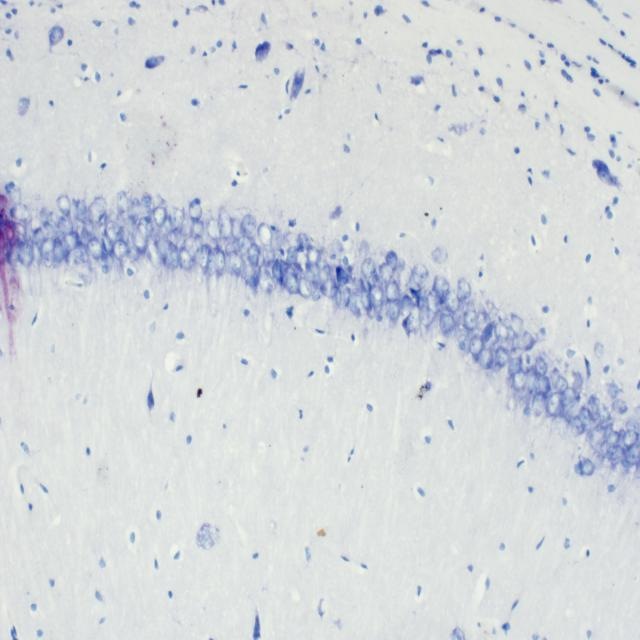neuron: (154, 237, 179, 270), (418, 296, 436, 329), (87, 196, 108, 224), (404, 305, 422, 337), (132, 222, 149, 255), (258, 265, 276, 296), (357, 280, 372, 312), (454, 315, 470, 345), (168, 206, 184, 235), (141, 191, 155, 224), (183, 236, 203, 259), (80, 220, 99, 244), (434, 274, 449, 304), (195, 244, 210, 273), (217, 211, 233, 238), (257, 222, 273, 249), (39, 236, 55, 262), (590, 425, 606, 451), (57, 214, 74, 238), (494, 345, 509, 372), (232, 236, 252, 256), (86, 237, 104, 259), (18, 241, 33, 267), (444, 290, 460, 314), (10, 203, 30, 222), (188, 198, 202, 225), (385, 278, 400, 303), (534, 374, 551, 396), (117, 190, 129, 221), (113, 239, 129, 262), (178, 247, 194, 270), (206, 219, 222, 242), (30, 238, 43, 266), (76, 199, 90, 225), (105, 220, 120, 244), (138, 217, 153, 241), (330, 282, 342, 312), (622, 429, 640, 449), (63, 230, 80, 251), (368, 284, 384, 306), (7, 240, 21, 265), (470, 333, 484, 358), (305, 244, 320, 267), (230, 252, 243, 278), (547, 392, 560, 418), (53, 237, 65, 265), (284, 232, 300, 253), (412, 264, 428, 285), (480, 319, 494, 343), (478, 349, 494, 370), (610, 445, 626, 466), (74, 241, 89, 263), (153, 206, 168, 228), (179, 217, 194, 239), (305, 261, 320, 283), (494, 322, 509, 344), (533, 390, 545, 417), (579, 458, 596, 477), (440, 312, 454, 335), (458, 277, 472, 300), (241, 214, 257, 234), (322, 278, 338, 298), (360, 258, 376, 278), (56, 195, 71, 216), (463, 310, 478, 331), (190, 218, 204, 240), (272, 258, 283, 286), (298, 276, 312, 298), (379, 262, 393, 284), (385, 250, 399, 272), (431, 246, 448, 264), (561, 387, 577, 406), (578, 408, 594, 427), (248, 242, 260, 267), (286, 270, 298, 294), (571, 416, 584, 438), (512, 370, 526, 390), (510, 313, 523, 334), (207, 249, 217, 276), (607, 381, 622, 399), (625, 417, 640, 435), (625, 445, 640, 463), (263, 244, 275, 266), (400, 292, 411, 316), (215, 247, 225, 273), (535, 356, 548, 376), (555, 376, 568, 396), (617, 428, 627, 454), (612, 399, 629, 414), (572, 374, 584, 395), (508, 356, 521, 375), (332, 238, 343, 260), (341, 286, 351, 310), (606, 431, 620, 448), (119, 226, 132, 244), (522, 332, 534, 351), (13, 221, 27, 237), (388, 301, 399, 321), (286, 246, 298, 263), (128, 245, 139, 262), (225, 242, 237, 257), (594, 341, 604, 359), (591, 450, 601, 468), (240, 259, 247, 281), (592, 396, 599, 416), (567, 349, 576, 359)
